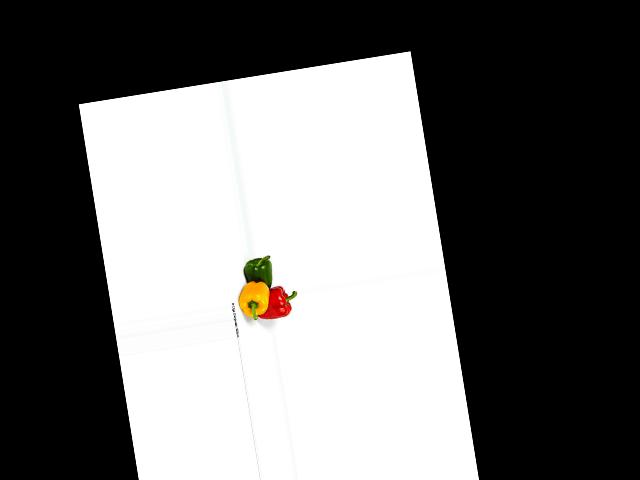bell_pepper: (255, 283, 300, 323)
